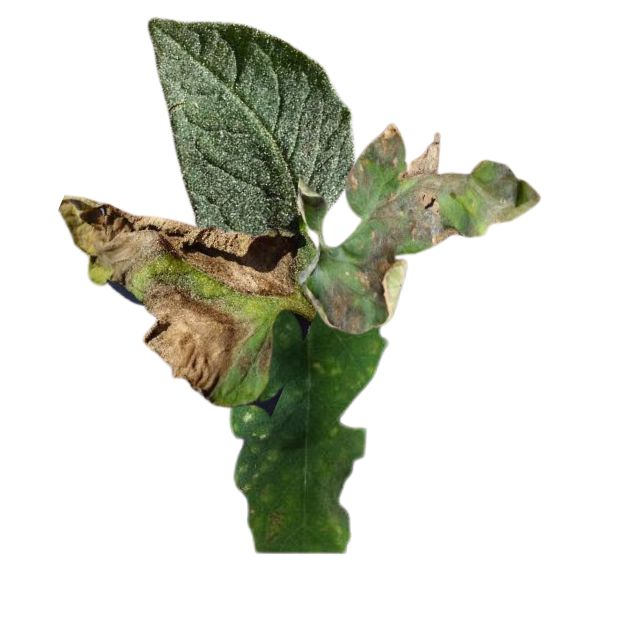Late_blight: (58, 195, 299, 299), (346, 123, 541, 242), (141, 279, 251, 399), (355, 226, 409, 323), (310, 275, 369, 336), (322, 503, 350, 552), (260, 509, 287, 544), (309, 354, 341, 378), (256, 336, 275, 375)
